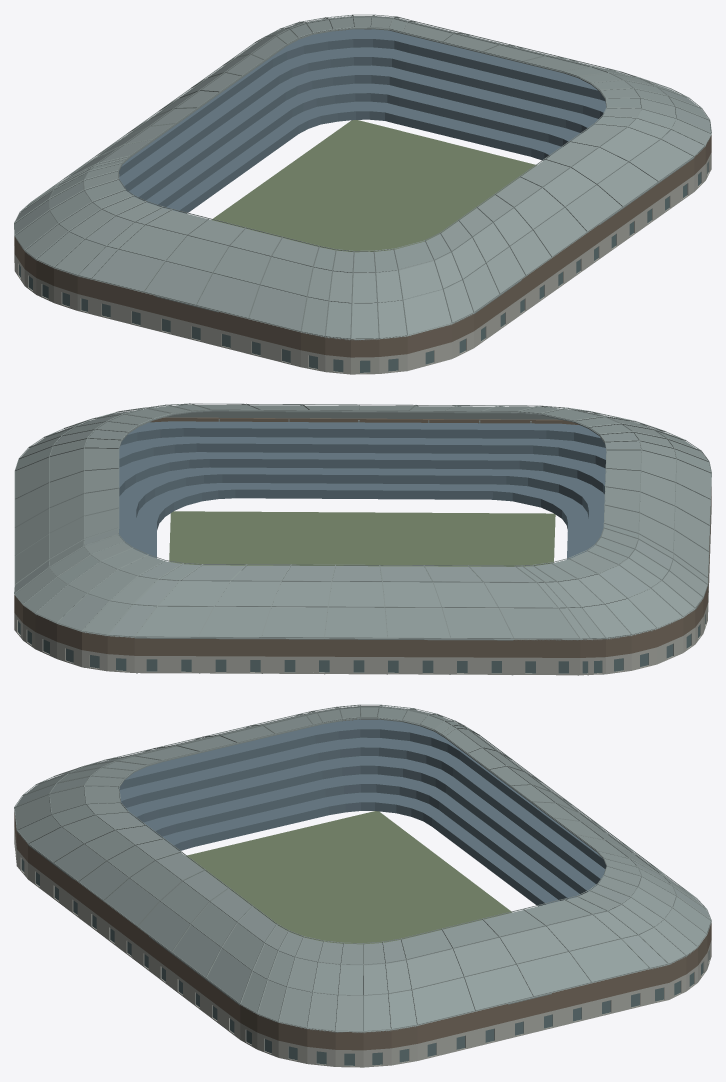
The model's file is stade-des-alpes-far.glb.
3 views of the same model, one above another, from view 1: azimuth 30°, elevation 25°; view 2: azimuth 150°, elevation 25°; view 3: azimuth 270°, elevation 25° (orthographic).
Visible parts, largest first — view 1: stade-des-alpes-0-roof, stade-des-alpes-0-seats, stade-des-alpes-0-field, stade-des-alpes-0-cladding, stade-des-alpes-0-metal, stade-des-alpes-0-stone, stade-des-alpes-0-glass; view 2: stade-des-alpes-0-roof, stade-des-alpes-0-seats, stade-des-alpes-0-field, stade-des-alpes-0-cladding, stade-des-alpes-0-metal, stade-des-alpes-0-stone, stade-des-alpes-0-glass; view 3: stade-des-alpes-0-roof, stade-des-alpes-0-seats, stade-des-alpes-0-field, stade-des-alpes-0-cladding, stade-des-alpes-0-metal, stade-des-alpes-0-stone, stade-des-alpes-0-glass.
Boxes of the visible parts, x1=… form: stade-des-alpes-0-roof: x1=14, y1=16, x2=711, y2=340; stade-des-alpes-0-seats: x1=119, y1=29, x2=606, y2=213; stade-des-alpes-0-field: x1=211, y1=120, x2=536, y2=252; stade-des-alpes-0-cladding: x1=14, y1=29, x2=711, y2=357; stade-des-alpes-0-metal: x1=14, y1=14, x2=711, y2=339; stade-des-alpes-0-stone: x1=14, y1=153, x2=711, y2=374; stade-des-alpes-0-glass: x1=19, y1=162, x2=708, y2=372; stade-des-alpes-0-roof: x1=14, y1=404, x2=711, y2=640; stade-des-alpes-0-seats: x1=119, y1=421, x2=606, y2=559; stade-des-alpes-0-field: x1=169, y1=511, x2=555, y2=566; stade-des-alpes-0-cladding: x1=14, y1=417, x2=711, y2=657; stade-des-alpes-0-metal: x1=14, y1=403, x2=711, y2=675; stade-des-alpes-0-stone: x1=14, y1=497, x2=711, y2=675; stade-des-alpes-0-glass: x1=18, y1=614, x2=705, y2=673; stade-des-alpes-0-roof: x1=15, y1=706, x2=710, y2=1033; stade-des-alpes-0-seats: x1=119, y1=719, x2=606, y2=906; stade-des-alpes-0-field: x1=186, y1=811, x2=512, y2=944; stade-des-alpes-0-cladding: x1=14, y1=719, x2=711, y2=1050; stade-des-alpes-0-metal: x1=14, y1=704, x2=711, y2=1031; stade-des-alpes-0-stone: x1=14, y1=827, x2=711, y2=1067; stade-des-alpes-0-glass: x1=21, y1=858, x2=709, y2=1065.
Bounding box in the file's own units: 210 × 23.43 × 191.
